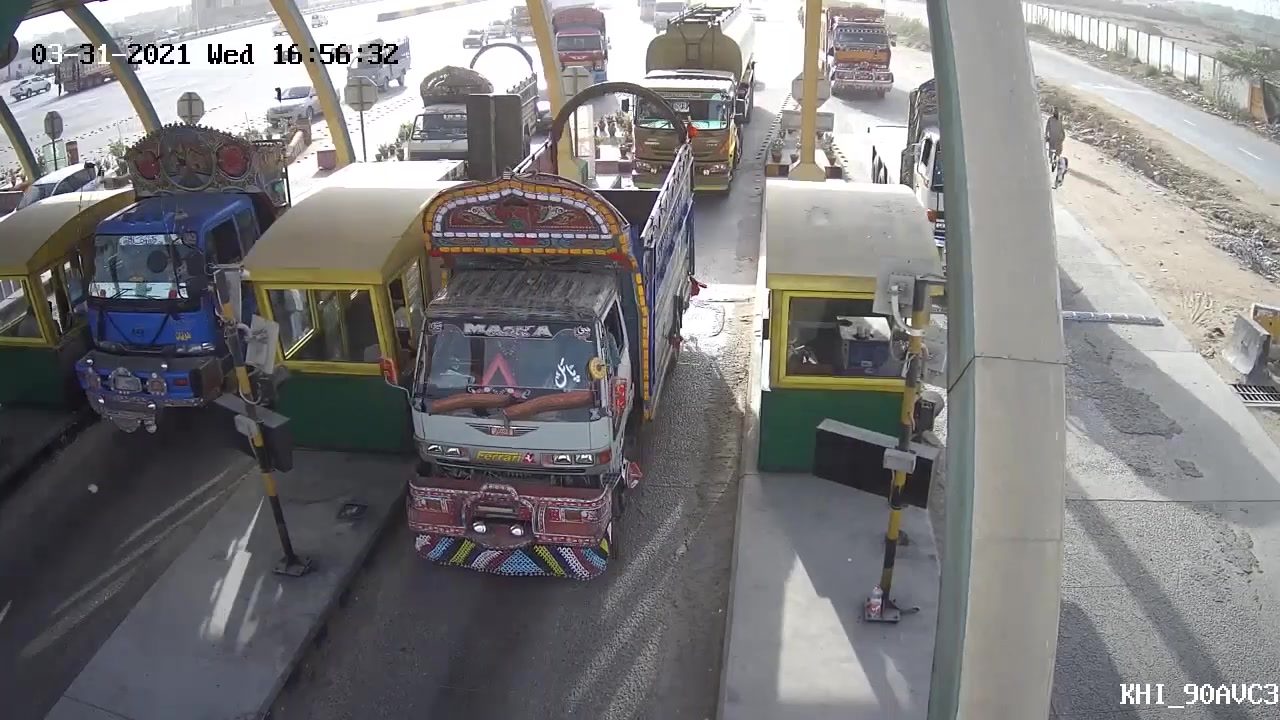F5: (383, 86, 709, 608)
